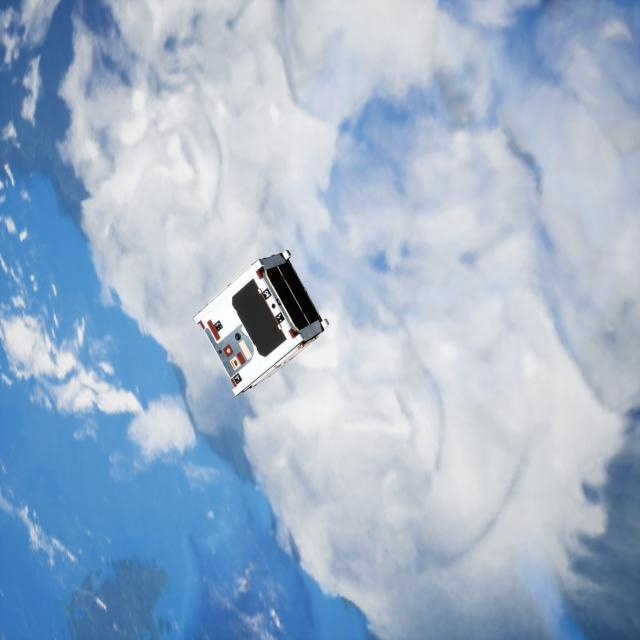medium_debris: (192, 251, 333, 398)
